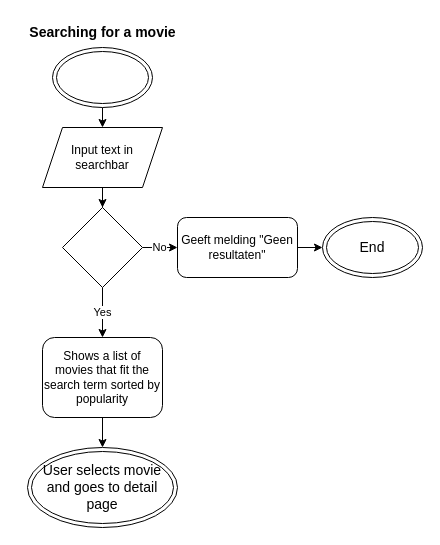
The diagram is 440 pixels wide and 545 high, and some of its shapes have lost their labels. The shapes that lost their labels are listed below. From the top down, each one's box as (x1, y1, x2, y2) in pixels, then its label:
(52, 46, 152, 108): Opens app
(62, 206, 142, 288): Are there results?
